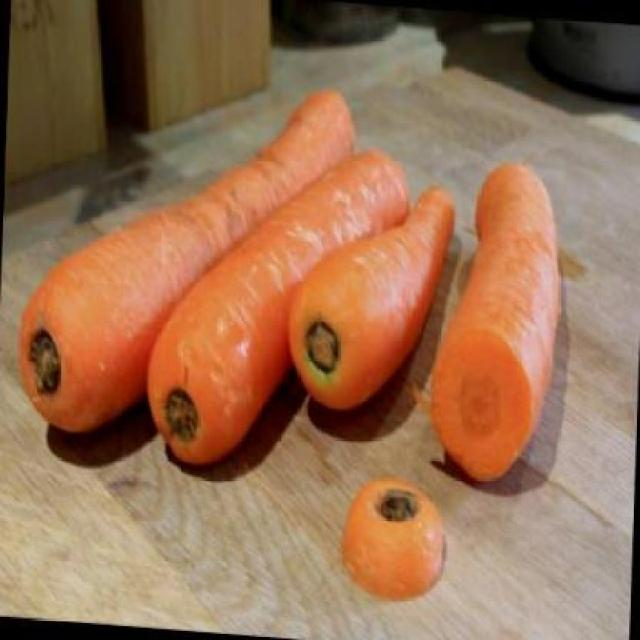carrot: (17, 63, 357, 452), (143, 135, 411, 482), (426, 155, 566, 488), (286, 172, 457, 416)
